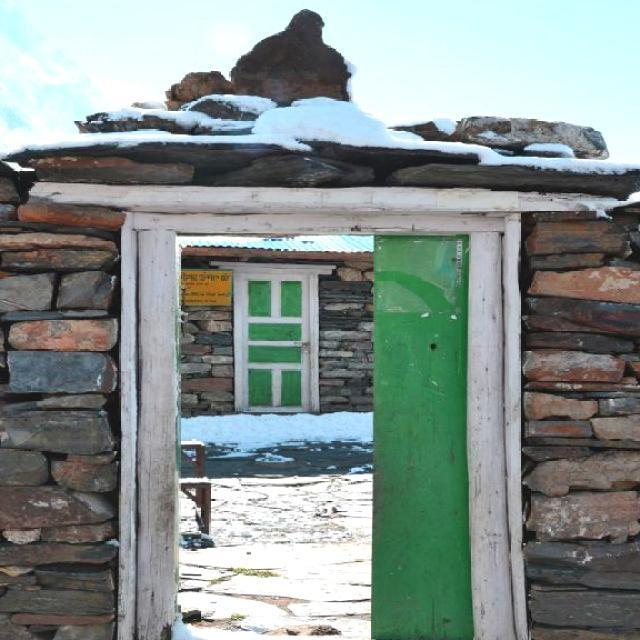door: (233, 271, 315, 413)
